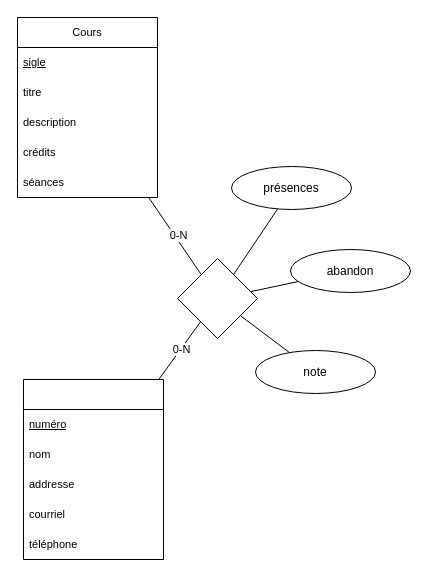
Image size: 428x577. Some labels were removed from this diagram. Each missing label, with the box of its shape:
inscrit: (176, 258, 258, 338)
Étudant·e: (22, 378, 164, 560)
